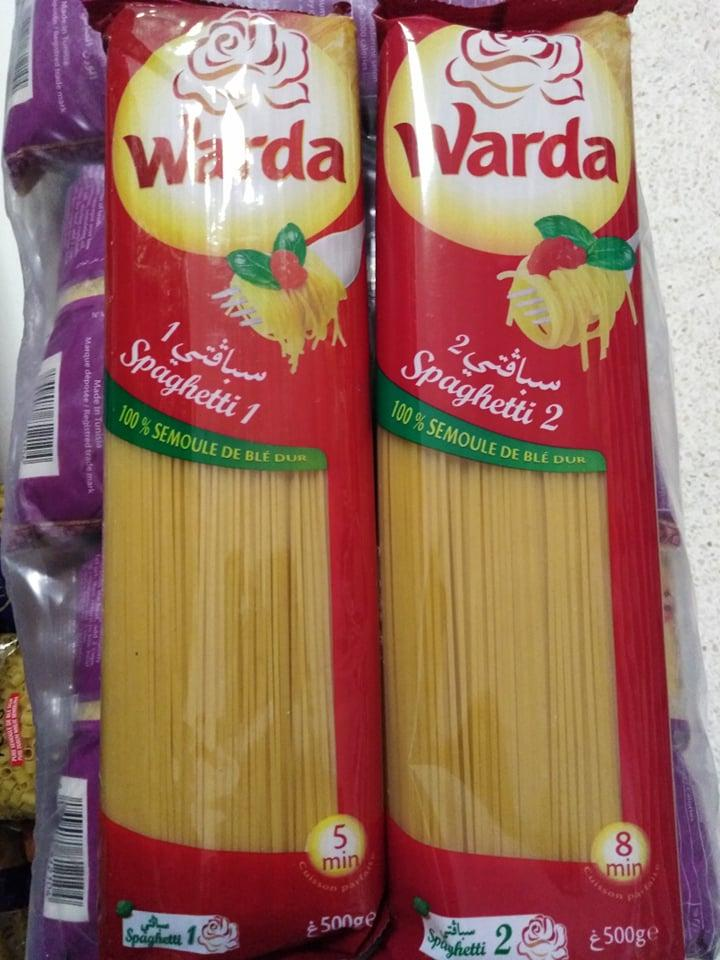Spaghetti: (379, 11, 686, 959), (92, 8, 387, 960)
